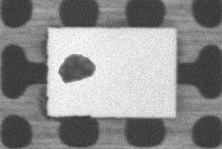DIE_INK: (56, 52, 97, 84)
